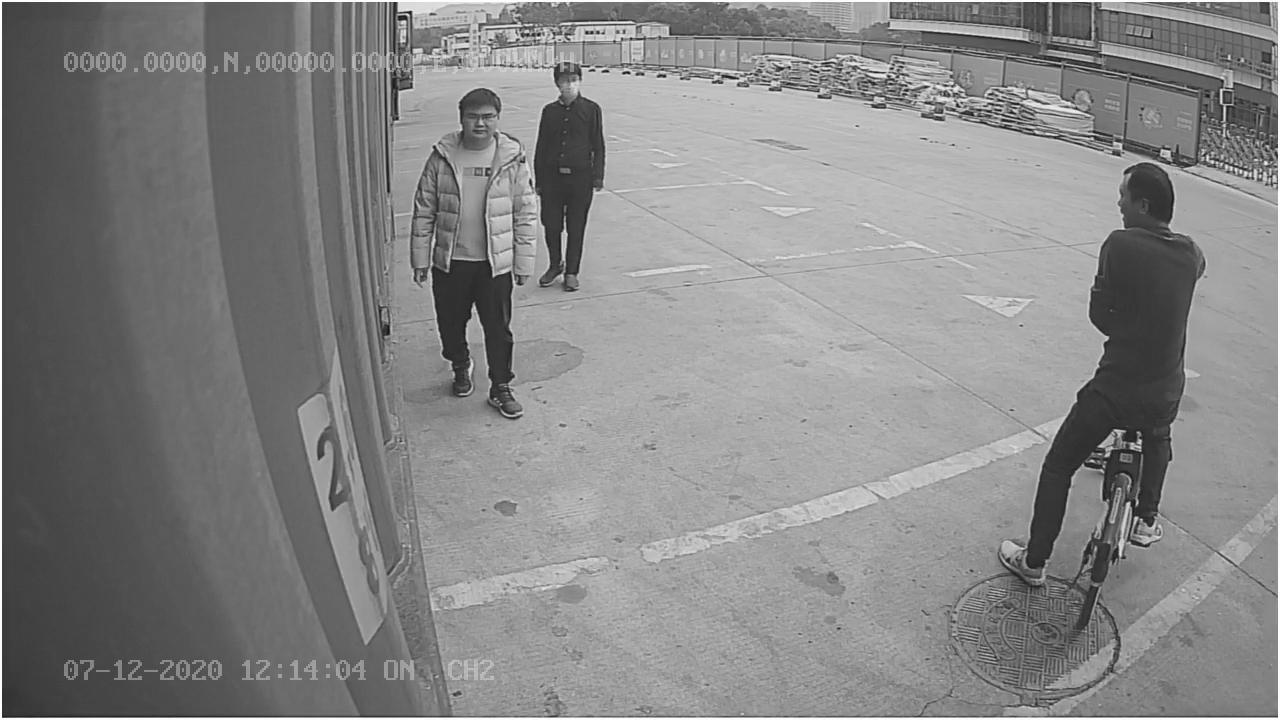person: (410, 85, 540, 417)
